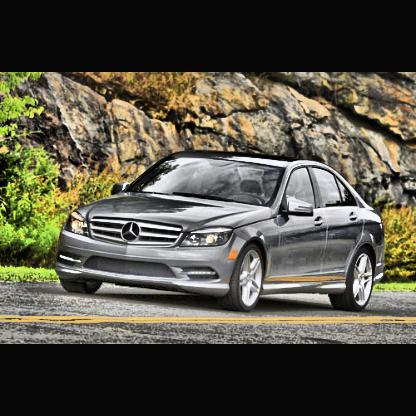Mercedes-Benz C-Class Sedan 2012: (49, 150, 389, 315)
